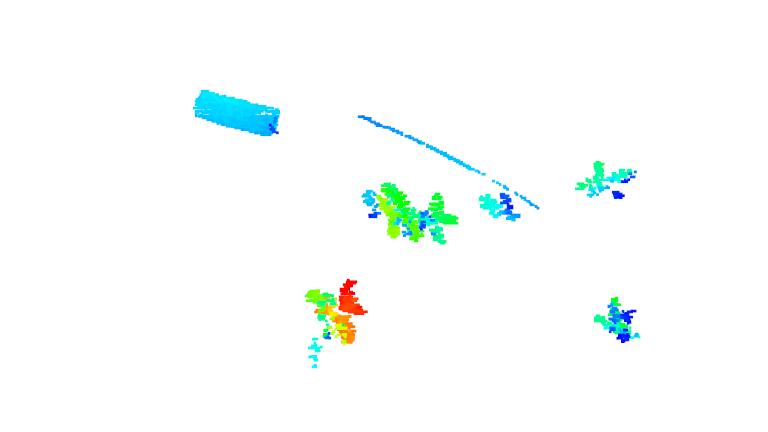chickpea: (296, 273, 371, 370), (359, 181, 462, 244), (571, 157, 639, 206), (593, 294, 642, 344), (480, 189, 527, 224)
